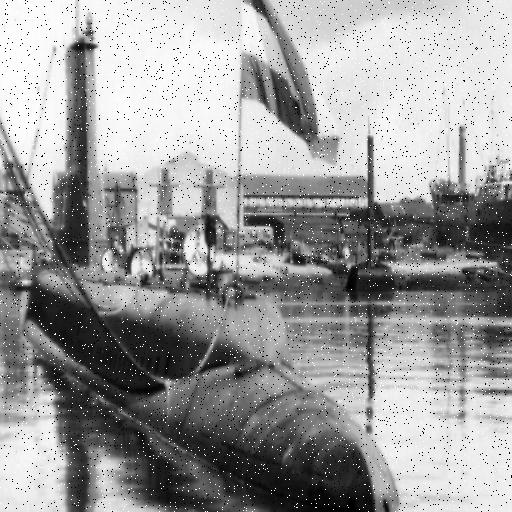submarine: (17, 6, 407, 512)
